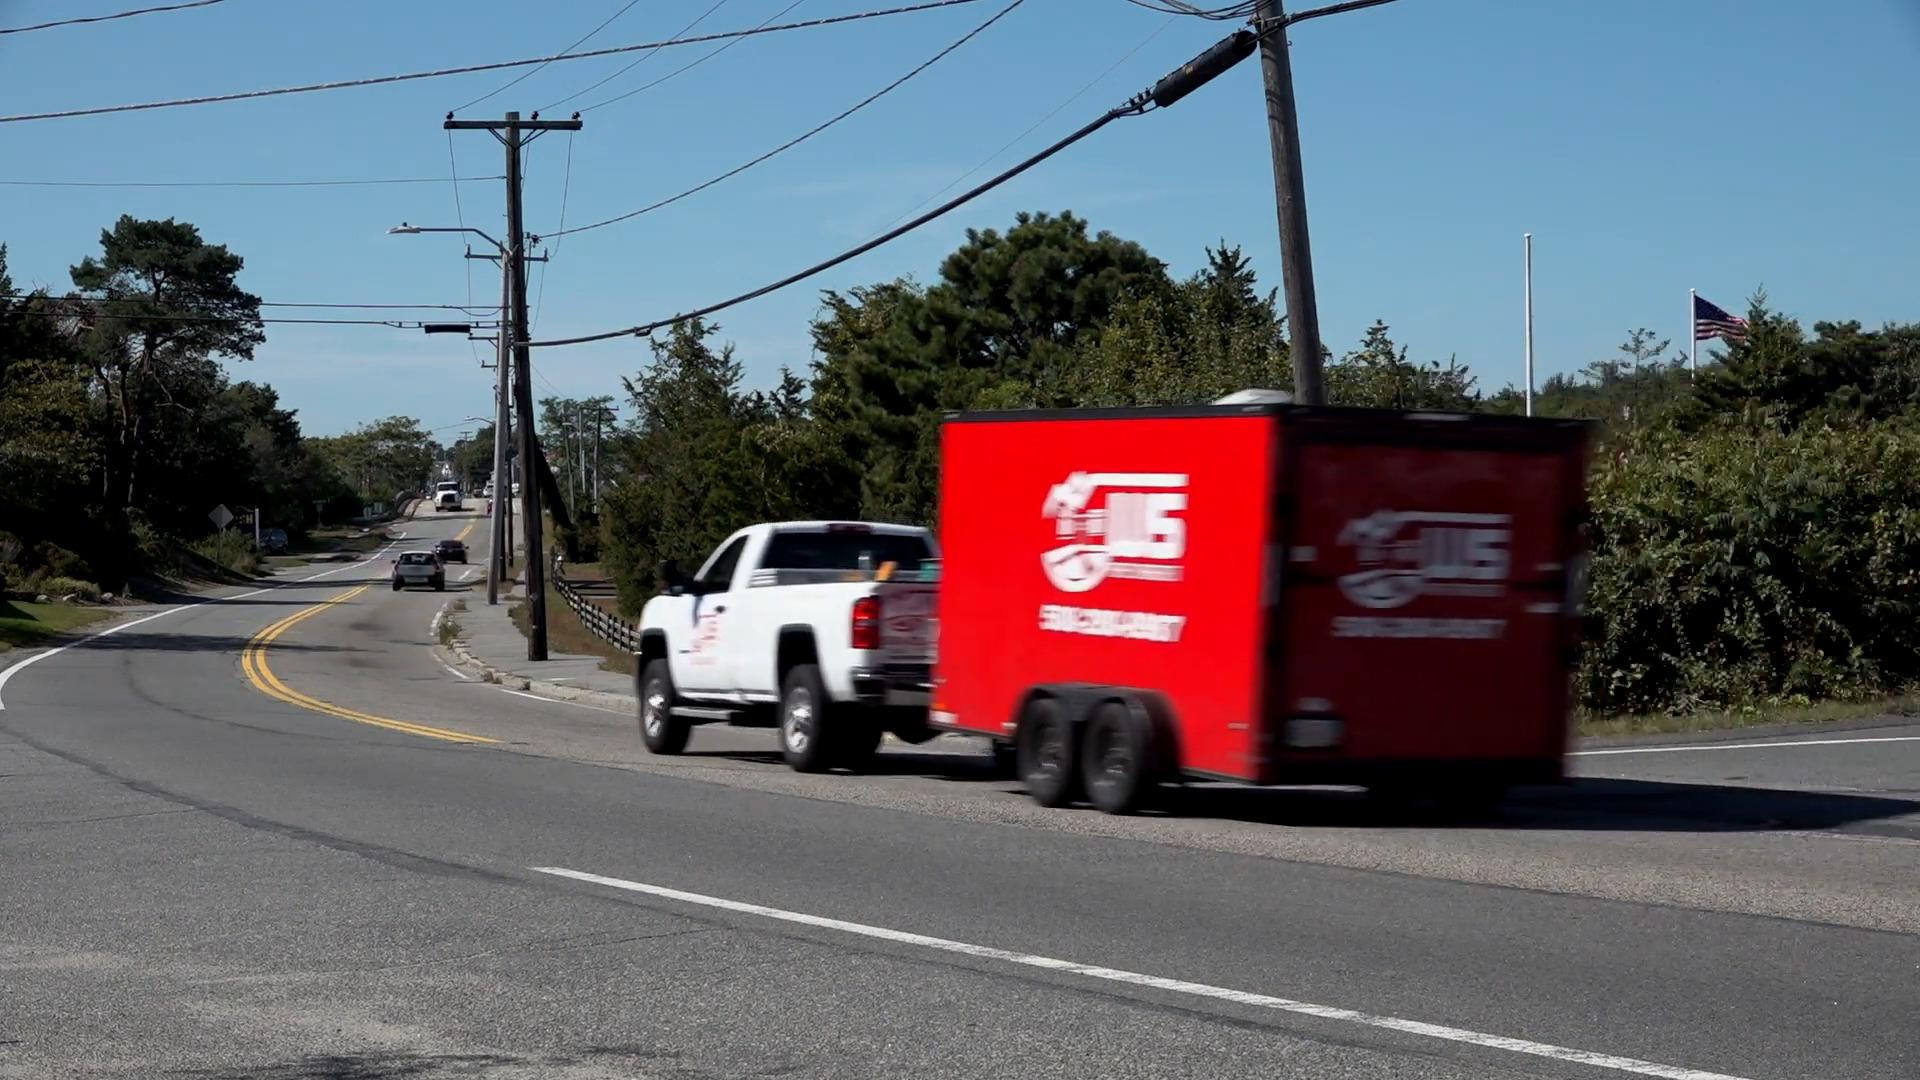pickup: (638, 518, 940, 767)
